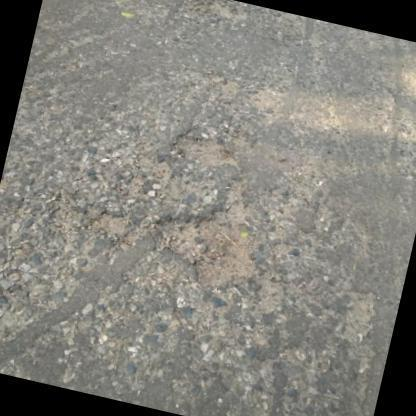pothole: (152, 180, 266, 292), (24, 188, 144, 257), (171, 126, 242, 171)
